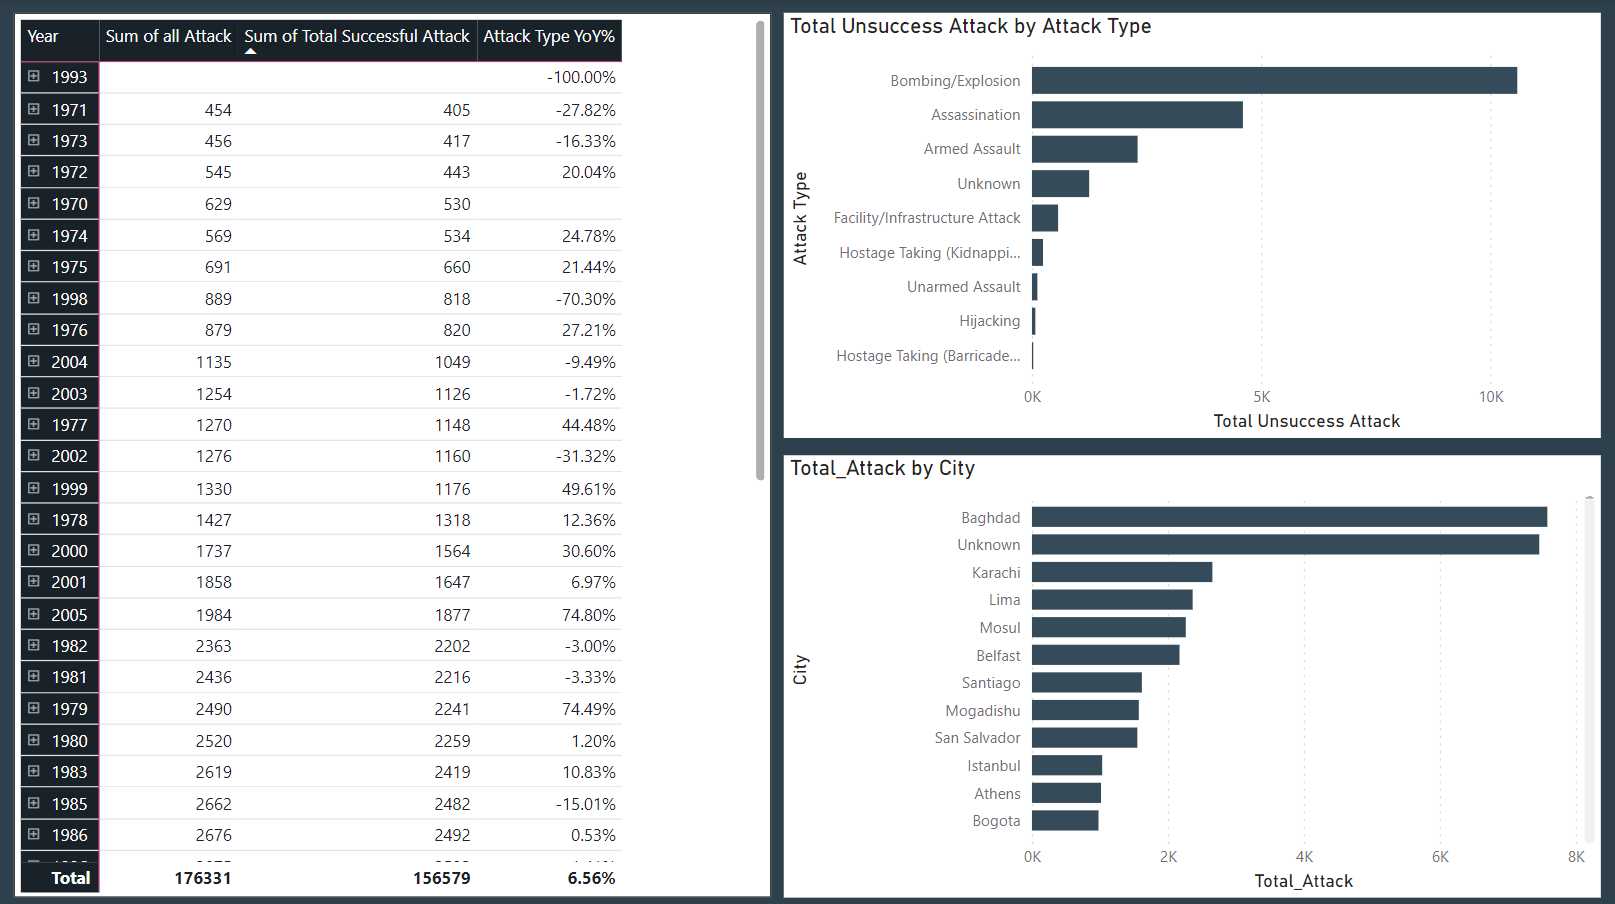

This screenshot's page, from the dashboard's own definition file:
{"tool":"powerbi","page":{"name":"Details Walkthrough","canvas":[1280,720],"ordinal":1},"visuals":[{"type":"pivotTable","fields":{"Rows":["globalterrorismdb.Date.Variation.Date Hierarchy.Year","globalterrorismdb.Date.Variation.Date Hierarchy.Quarter","globalterrorismdb.Date.Variation.Date Hierarchy.Month","globalterrorismdb.Date.Variation.Date Hierarchy.Day"],"Values":["Sum(globalterrorismdb.attack calc)","Sum(globalterrorismdb.success)","globalterrorismdb.Count of attacktype1_txt YoY%"]},"box":[10.9,10.9,600,701],"z":0},{"type":"clusteredBarChart","fields":{"Category":["globalterrorismdb.Attack Type"],"Y":["globalterrorismdb.Total Unsuccess Attack"]},"box":[620.8,10.9,647.5,336.6],"z":1001},{"type":"clusteredBarChart","fields":{"Category":["globalterrorismdb.City"],"Y":["globalterrorismdb.Total_Attack"]},"box":[620.8,361.4,647.5,350.5],"z":1002}]}

Visuals, with their boxes in screenshot pixels (x1, y1, x2, y2), scaled from the page's 1280x720 canvas onto the 1615x904 screenshot:
pivotTable - globalterrorismdb.Date.Variation.Date Hierarchy.Year x globalterrorismdb.Date.Variation.Date Hierarchy.Quarter: (14, 14, 771, 894)
clusteredBarChart - globalterrorismdb.Attack Type x globalterrorismdb.Total Unsuccess Attack: (783, 14, 1600, 436)
clusteredBarChart - globalterrorismdb.City x globalterrorismdb.Total_Attack: (783, 454, 1600, 894)
